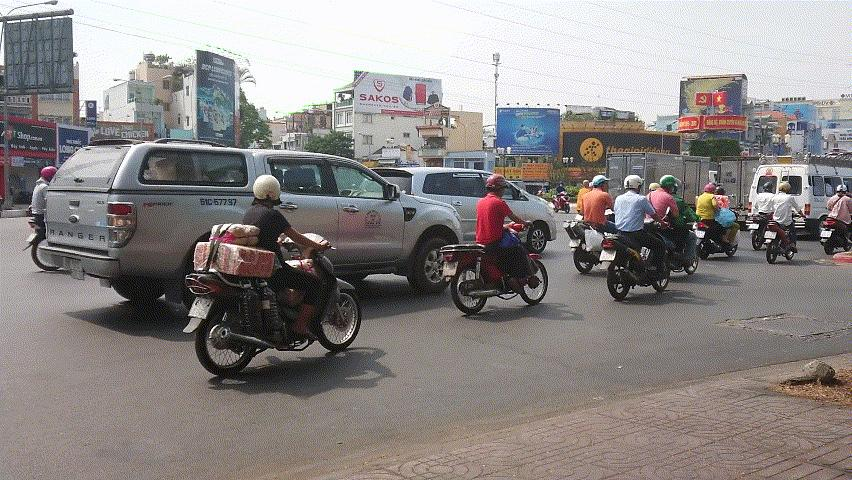driver: (181, 174, 362, 379), (440, 173, 549, 317), (600, 175, 674, 300), (562, 174, 615, 274), (696, 183, 744, 260), (763, 181, 805, 264), (819, 184, 852, 254)
helmet: (252, 174, 284, 208), (485, 173, 511, 199), (624, 175, 646, 195), (659, 174, 677, 194), (592, 174, 611, 192), (778, 181, 792, 195), (836, 184, 848, 196), (762, 182, 775, 193), (705, 183, 716, 194), (715, 186, 726, 195)
